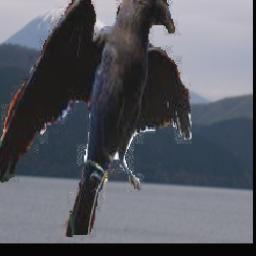Crow: (0, 0, 191, 239)
